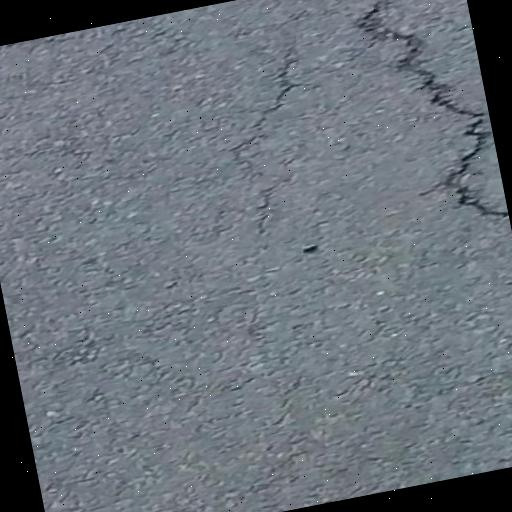spalling: (345, 0, 510, 225)
